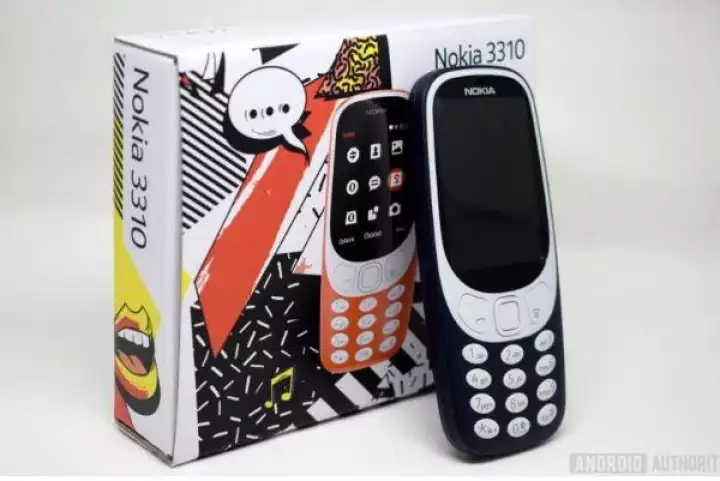Phone: (406, 64, 570, 464)
